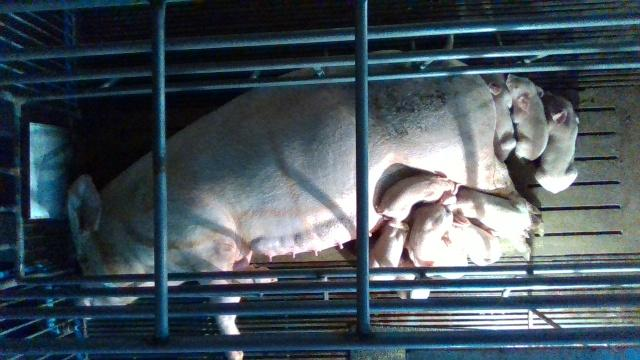piglet: (454, 185, 537, 262), (408, 196, 466, 279), (376, 176, 461, 231), (453, 215, 501, 266), (369, 222, 409, 281)
sow-sleep-lactate: (63, 50, 544, 360)
